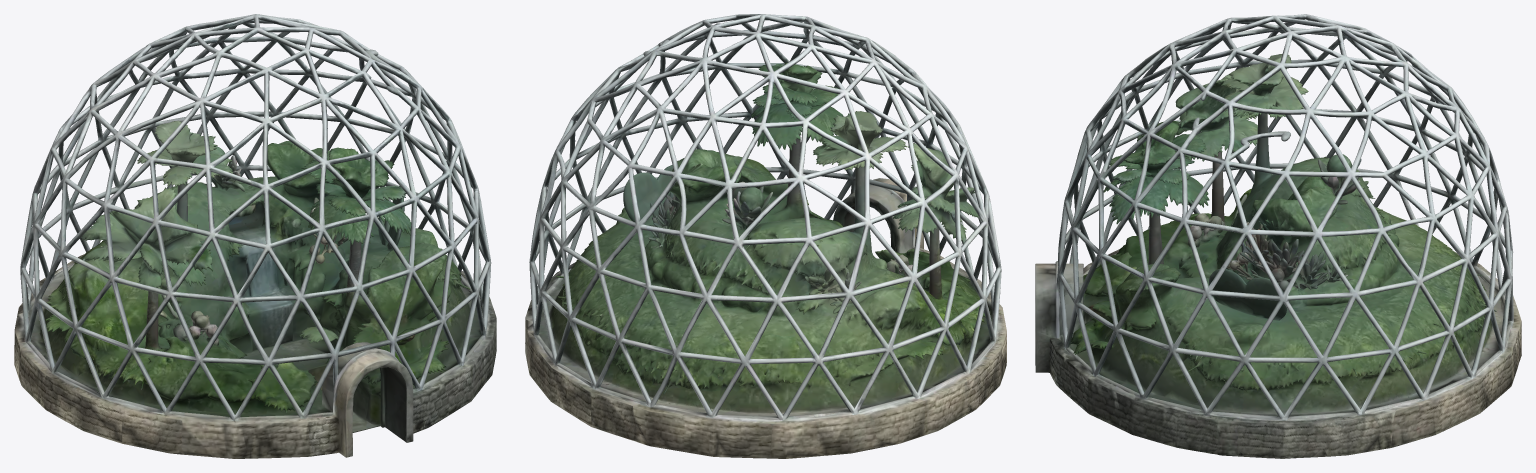
The model's file is dome.glb.
3 renders of one model, left to right at view 1: azimuth 30°, elevation 25°; view 2: azimuth 150°, elevation 25°; view 3: azimuth 270°, elevation 25°, orthographic.
Visible parts, largest first — view 1: tripo_node_4682e62c-e6f5-4b1e-a76c-741be83abb27; view 2: tripo_node_4682e62c-e6f5-4b1e-a76c-741be83abb27; view 3: tripo_node_4682e62c-e6f5-4b1e-a76c-741be83abb27.
Boxes of the visible parts, x1,y1,x2,y2 form: tripo_node_4682e62c-e6f5-4b1e-a76c-741be83abb27: (14,14,496,458); tripo_node_4682e62c-e6f5-4b1e-a76c-741be83abb27: (525,14,1006,458); tripo_node_4682e62c-e6f5-4b1e-a76c-741be83abb27: (1035,14,1521,458).
Size of the model in its own units: 0.9783 by 0.7294 by 0.9801.
Materials: 1 (1 with a texture image).
